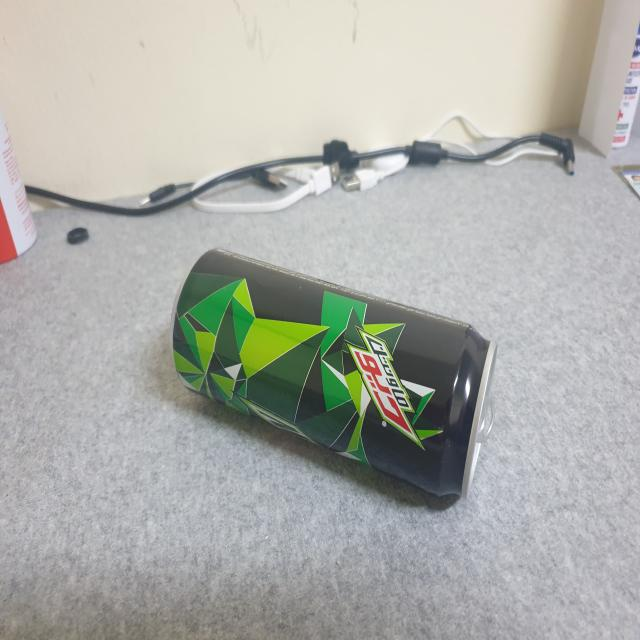non-organic waste: (164, 234, 514, 523)
